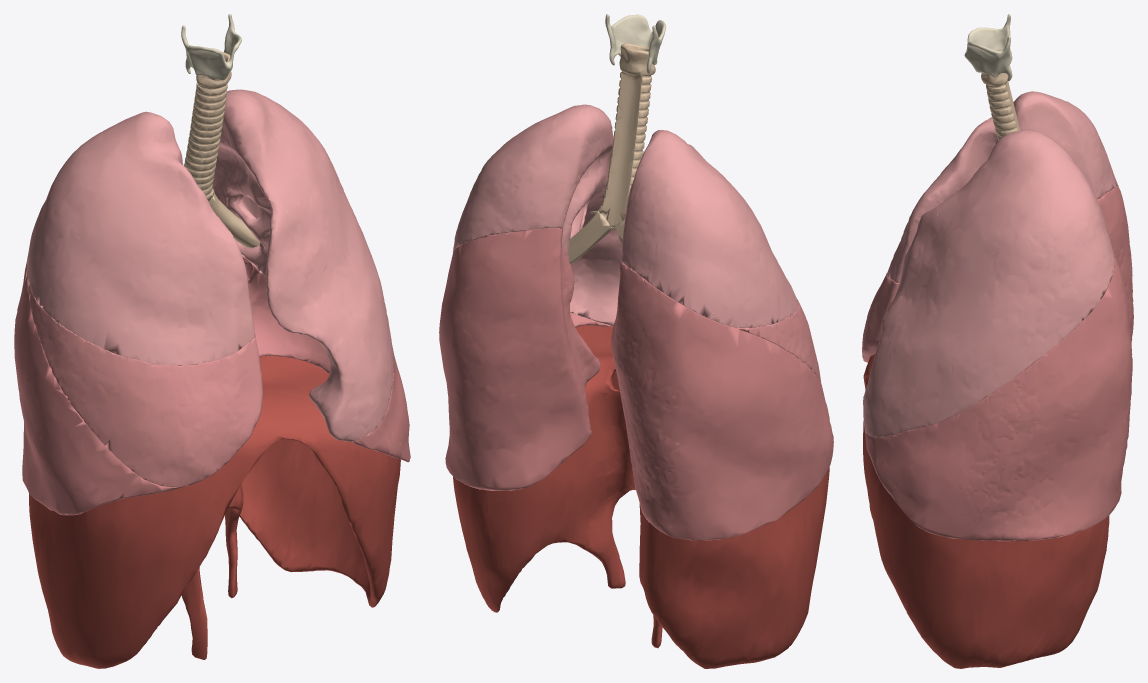
3 renders of one model, left to right at view 1: azimuth 30°, elevation 25°; view 2: azimuth 150°, elevation 25°; view 3: azimuth 270°, elevation 25°, orthographic. The views are drawn at different scales.
Visible parts, largest first — view 1: s9, s4, s7, s5, s6, s8, s1, s0, s3; view 2: s9, s6, s8, s4, s7, s1, s5, s0, s3; view 3: s7, s8, s9, s4, s6, s0, s1, s5.
Boxes of the visible parts, left/top/right/bottom form: s9: left=29, top=356, right=400, bottom=668; s4: left=26, top=111, right=255, bottom=365; s7: left=212, top=89, right=393, bottom=441; s5: left=27, top=277, right=262, bottom=487; s6: left=14, top=260, right=184, bottom=515; s8: left=242, top=255, right=410, bottom=462; s1: left=184, top=51, right=231, bottom=201; s0: left=181, top=14, right=241, bottom=80; s3: left=209, top=192, right=287, bottom=247; s9: left=453, top=325, right=829, bottom=668; s6: left=611, top=262, right=833, bottom=540; s8: left=439, top=227, right=611, bottom=490; s4: left=621, top=130, right=798, bottom=327; s7: left=453, top=104, right=622, bottom=326; s1: left=598, top=43, right=655, bottom=227; s5: left=737, top=299, right=821, bottom=383; s0: left=605, top=14, right=666, bottom=73; s3: left=568, top=211, right=614, bottom=263; s7: left=863, top=129, right=1114, bottom=437; s8: left=865, top=250, right=1132, bottom=541; s9: left=863, top=354, right=1109, bottom=668; s4: left=887, top=91, right=1117, bottom=282; s6: left=1097, top=184, right=1133, bottom=341; s0: left=964, top=14, right=1012, bottom=81; s1: left=981, top=50, right=1020, bottom=140; s5: left=862, top=273, right=899, bottom=362.
Bounding box in the file's own units: 253 × 445 × 181.
